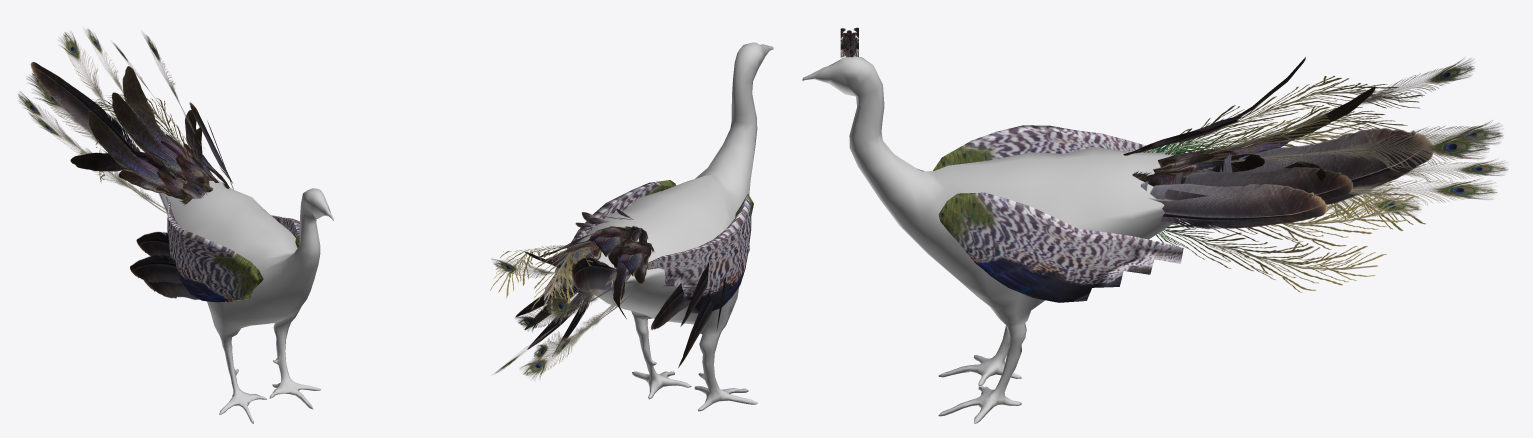
The model's file is peacock02.gltf.
The picture shows the model from 3 angles, left to right: view 1: azimuth 30°, elevation 25°; view 2: azimuth 150°, elevation 25°; view 3: azimuth 270°, elevation 25°; orthographic projection. The views are drawn at different scales.
Visible parts, largest first — view 1: polySurface1, pCube3:PIV, pPlane54:PIV, pPlane57:PIV, pPlane74:PIV, pPlane65:PIV, pPlane61:PIV, pPlane52:PIV, polySurface111:PIV, pPlane80:PIV, pPlane53:PIV, pPlane60:PIV (+7 smaller); view 2: polySurface1, pCube3:PIV, polySurface111:PIV, pPlane74:PIV, pCube1, pPlane80:PIV, pPlane75:PIV, pPlane60:PIV, pPlane63:PIV, pPlane65:PIV, pPlane54:PIV, pPlane57:PIV (+3 smaller); view 3: polySurface1, pCube1, pPlane68:PIV, pPlane79:PIV, pPlane67:PIV, polySurface106:PIV, polySurface111:PIV, pCube3:PIV, pPlane66:PIV, pPlane62:PIV, polySurface104:PIV, pPlane52:PIV (+5 smaller).
Boxes of the visible parts, x1,y1,x2,y2 form: polySurface1: [158, 179, 333, 423]; pCube3:PIV: [166, 196, 263, 302]; pPlane54:PIV: [88, 111, 191, 205]; pPlane57:PIV: [112, 92, 212, 192]; pPlane74:PIV: [130, 231, 199, 299]; pPlane65:PIV: [30, 62, 139, 151]; pPlane61:PIV: [57, 26, 140, 150]; pPlane52:PIV: [122, 66, 213, 180]; polySurface111:PIV: [59, 94, 201, 183]; pPlane80:PIV: [28, 81, 160, 206]; pPlane53:PIV: [70, 151, 175, 196]; pPlane60:PIV: [18, 73, 166, 213]; polySurface1: [554, 42, 773, 411]; pCube3:PIV: [646, 194, 753, 313]; polySurface111:PIV: [490, 244, 619, 315]; pPlane74:PIV: [651, 262, 725, 367]; pCube1: [544, 180, 675, 299]; pPlane80:PIV: [544, 269, 630, 362]; pPlane75:PIV: [515, 286, 591, 356]; pPlane60:PIV: [515, 287, 630, 365]; pPlane63:PIV: [491, 293, 621, 381]; pPlane65:PIV: [572, 257, 616, 291]; pPlane54:PIV: [613, 241, 654, 283]; pPlane57:PIV: [588, 226, 631, 264]; polySurface1: [802, 56, 1182, 423]; pCube1: [938, 192, 1183, 302]; pPlane68:PIV: [1220, 128, 1432, 204]; pPlane79:PIV: [1230, 127, 1497, 206]; pPlane67:PIV: [1140, 180, 1326, 229]; polySurface106:PIV: [1156, 187, 1417, 292]; polySurface111:PIV: [1165, 76, 1424, 165]; pCube3:PIV: [933, 125, 1171, 170]; pPlane66:PIV: [1148, 167, 1352, 202]; pPlane62:PIV: [1197, 120, 1508, 182]; polySurface104:PIV: [1142, 109, 1425, 230]; pPlane52:PIV: [1158, 86, 1375, 167].
Size of the model in its own units: 10.08 by 15.13 by 26.67.
